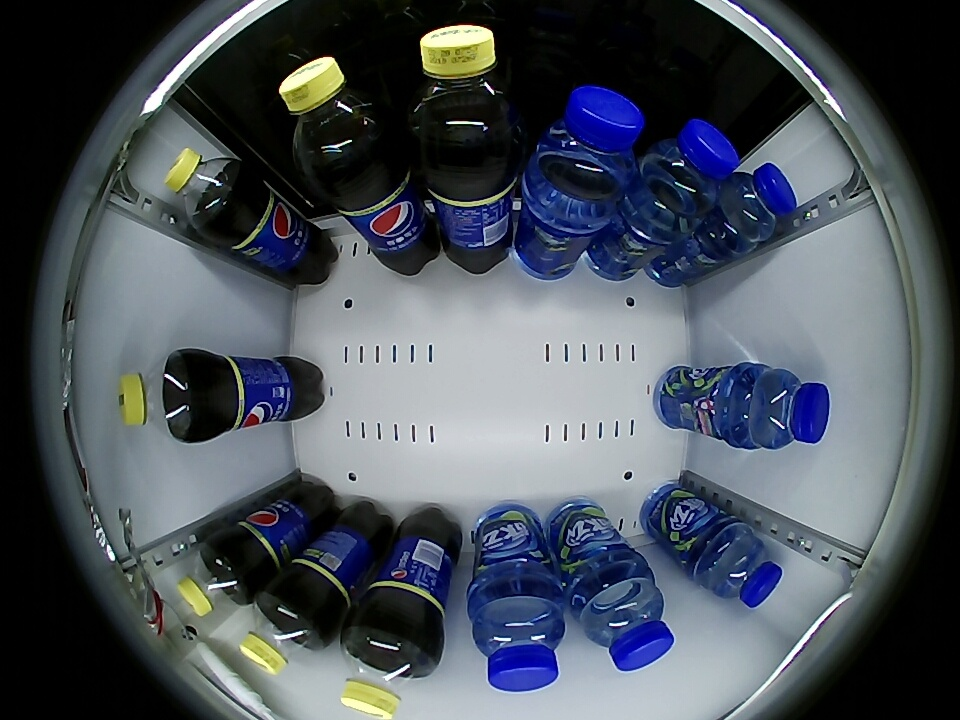baishikele: (405, 25, 521, 149), (279, 55, 388, 172), (340, 621, 439, 720), (240, 588, 329, 675), (117, 351, 200, 441), (164, 147, 244, 232), (177, 540, 252, 617)
maidong: (528, 84, 646, 209), (637, 119, 739, 220), (577, 569, 675, 674), (469, 589, 567, 693), (738, 367, 831, 450), (715, 163, 798, 246), (701, 528, 783, 609)
